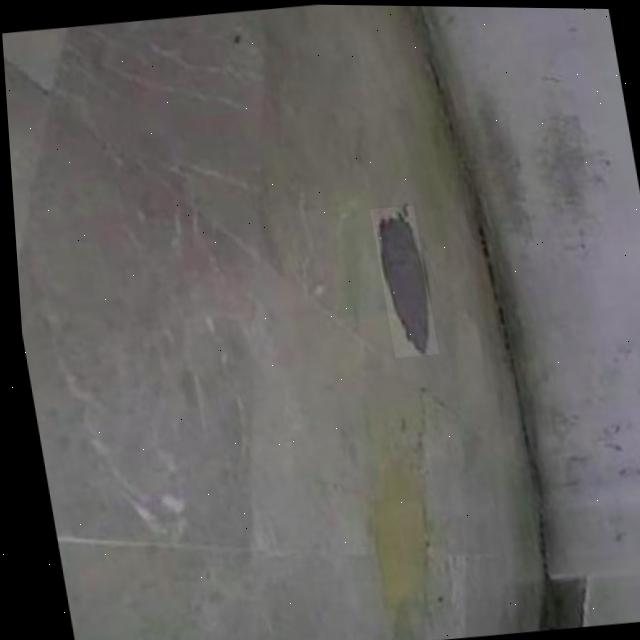spillage: (374, 204, 425, 353)
